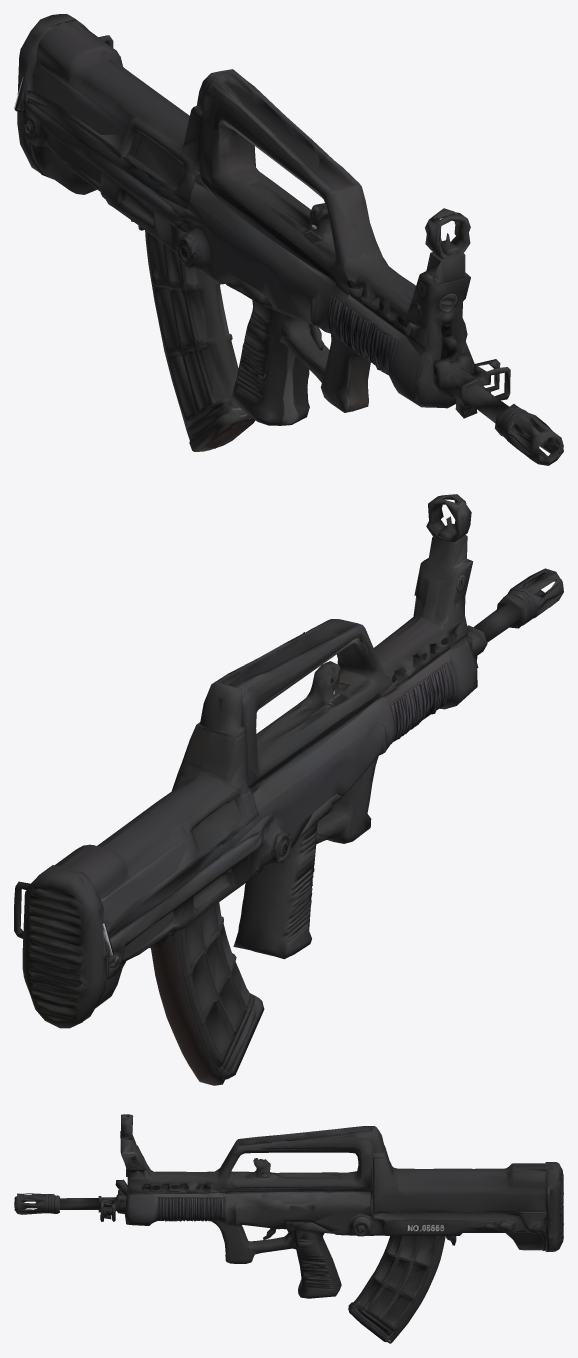
The model's file is qbz95.glb.
The picture shows the model from 3 angles, top to bottom: view 1: azimuth 30°, elevation 25°; view 2: azimuth 150°, elevation 25°; view 3: azimuth 270°, elevation 25°; orthographic projection. The views are drawn at different scales.
Visible parts, largest first — view 1: tripo_part_0, tripo_part_4, tripo_part_2, tripo_part_16, tripo_part_6, tripo_part_5, tripo_part_1, tripo_part_9, tripo_part_8, tripo_part_7, tripo_part_18, tripo_part_3 (+5 smaller); view 2: tripo_part_0, tripo_part_2, tripo_part_3, tripo_part_4, tripo_part_16, tripo_part_6, tripo_part_5, tripo_part_7, tripo_part_18, tripo_part_1, tripo_part_8, tripo_part_15 (+4 smaller); view 3: tripo_part_10, tripo_part_0, tripo_part_2, tripo_part_4, tripo_part_12, tripo_part_7, tripo_part_5, tripo_part_3, tripo_part_1, tripo_part_8, tripo_part_18, tripo_part_13 (+5 smaller).
Part boxes in pixels (x1,y1,x2,y2): tripo_part_0: (33, 93, 474, 408); tripo_part_4: (200, 86, 384, 287); tripo_part_2: (145, 230, 255, 451); tripo_part_16: (32, 22, 189, 145); tripo_part_6: (24, 100, 240, 284); tripo_part_5: (230, 300, 309, 425); tripo_part_1: (432, 335, 563, 465); tripo_part_9: (406, 208, 470, 365); tripo_part_8: (279, 314, 370, 412); tripo_part_7: (343, 253, 470, 340); tripo_part_18: (194, 69, 319, 174); tripo_part_3: (14, 14, 113, 179); tripo_part_0: (109, 638, 477, 936); tripo_part_2: (151, 902, 264, 1085); tripo_part_3: (14, 845, 114, 1028); tripo_part_4: (241, 619, 396, 788); tripo_part_16: (62, 776, 224, 922); tripo_part_6: (106, 806, 312, 979); tripo_part_5: (233, 822, 317, 959); tripo_part_7: (374, 536, 472, 679); tripo_part_18: (200, 635, 337, 733); tripo_part_1: (467, 568, 563, 668); tripo_part_8: (316, 756, 378, 843); tripo_part_15: (257, 661, 349, 750); tripo_part_10: (370, 1150, 545, 1213); tripo_part_0: (125, 1145, 400, 1231); tripo_part_2: (348, 1236, 445, 1343); tripo_part_4: (208, 1135, 379, 1194); tripo_part_12: (359, 1199, 526, 1237); tripo_part_7: (121, 1135, 219, 1194); tripo_part_5: (292, 1230, 341, 1298); tripo_part_3: (498, 1162, 563, 1251); tripo_part_1: (14, 1179, 127, 1221); tripo_part_8: (211, 1220, 296, 1263); tripo_part_18: (259, 1126, 384, 1153); tripo_part_13: (314, 1210, 372, 1236).
Bounding box in the file's own units: 0.0871 × 0.3387 × 0.746.
29 materials, 29 textured.
